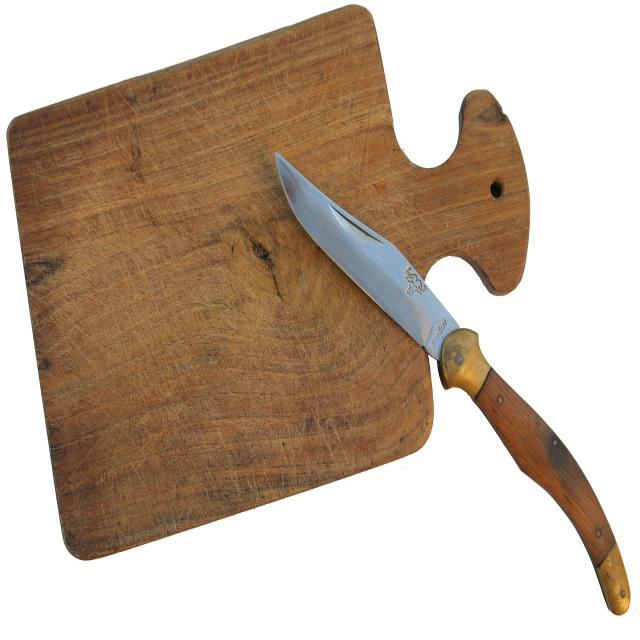Knife: (275, 152, 630, 614)
